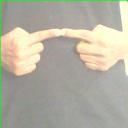hand: (0, 26, 61, 79), (62, 25, 128, 72)
